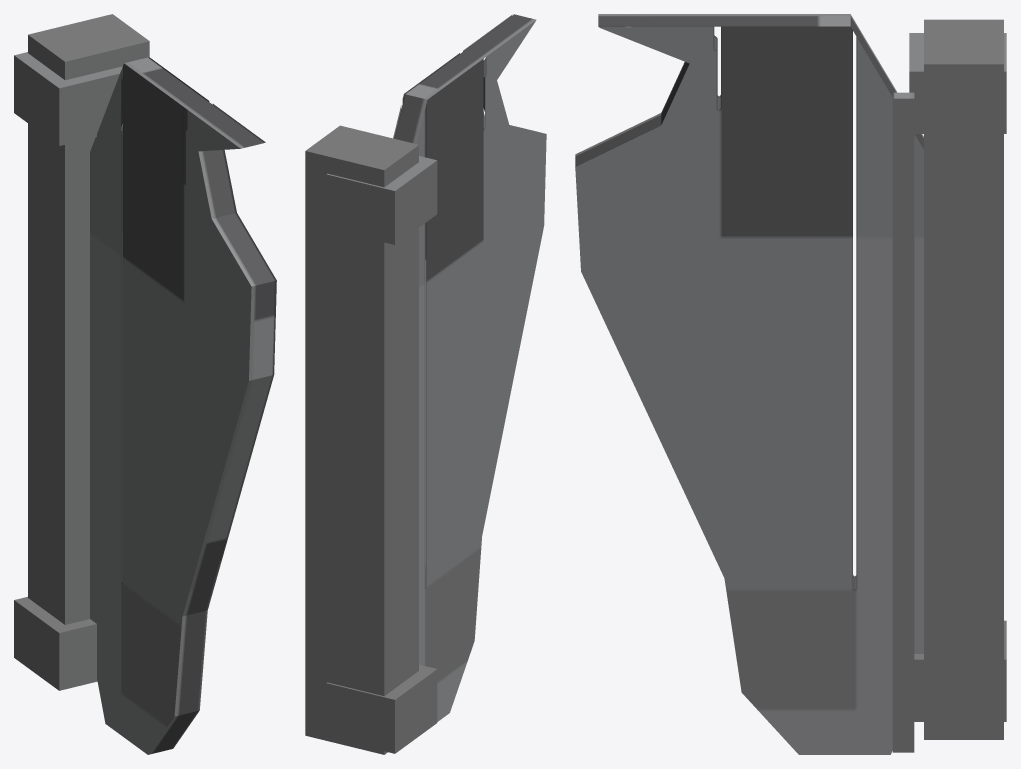
3 views of the same model, side by side, from view 1: azimuth 30°, elevation 25°; view 2: azimuth 150°, elevation 25°; view 3: azimuth 270°, elevation 25° (orthographic). The views are drawn at different scales.
Bounding box in the file's own units: 0.2367 × 1.51 × 0.8124.
